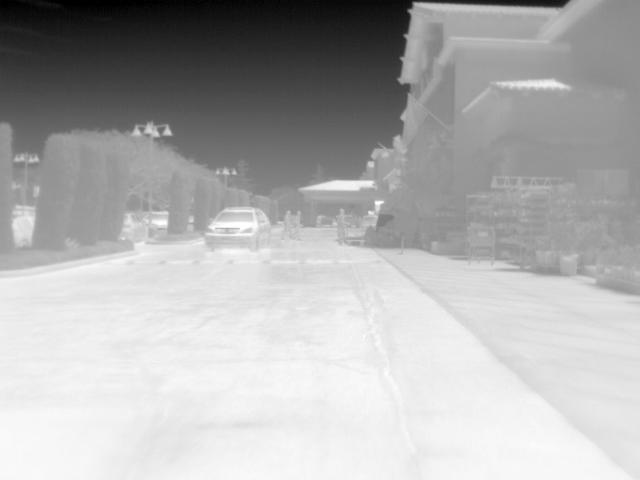car: (203, 206, 270, 250), (115, 212, 149, 243), (10, 214, 35, 248), (149, 210, 168, 237), (361, 214, 377, 228), (318, 215, 332, 227)
person: (333, 207, 351, 247), (291, 207, 302, 240), (281, 208, 293, 238)
